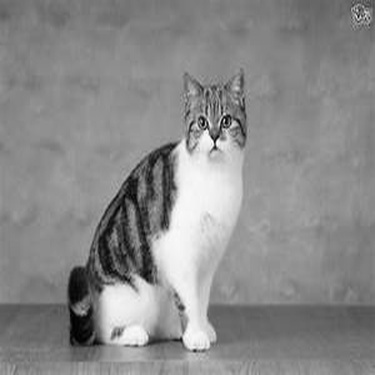cat: (64, 64, 248, 355)
